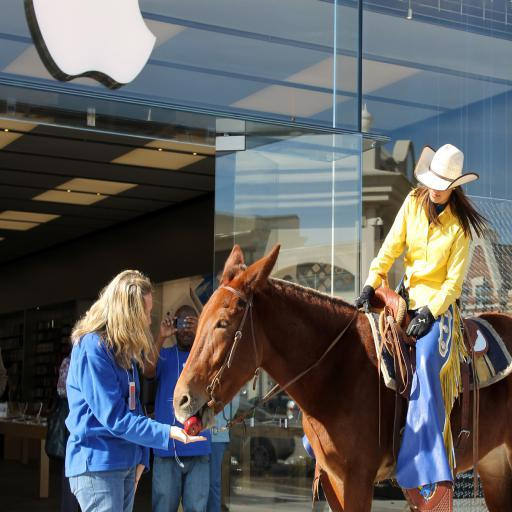Horse: (171, 240, 512, 508)
